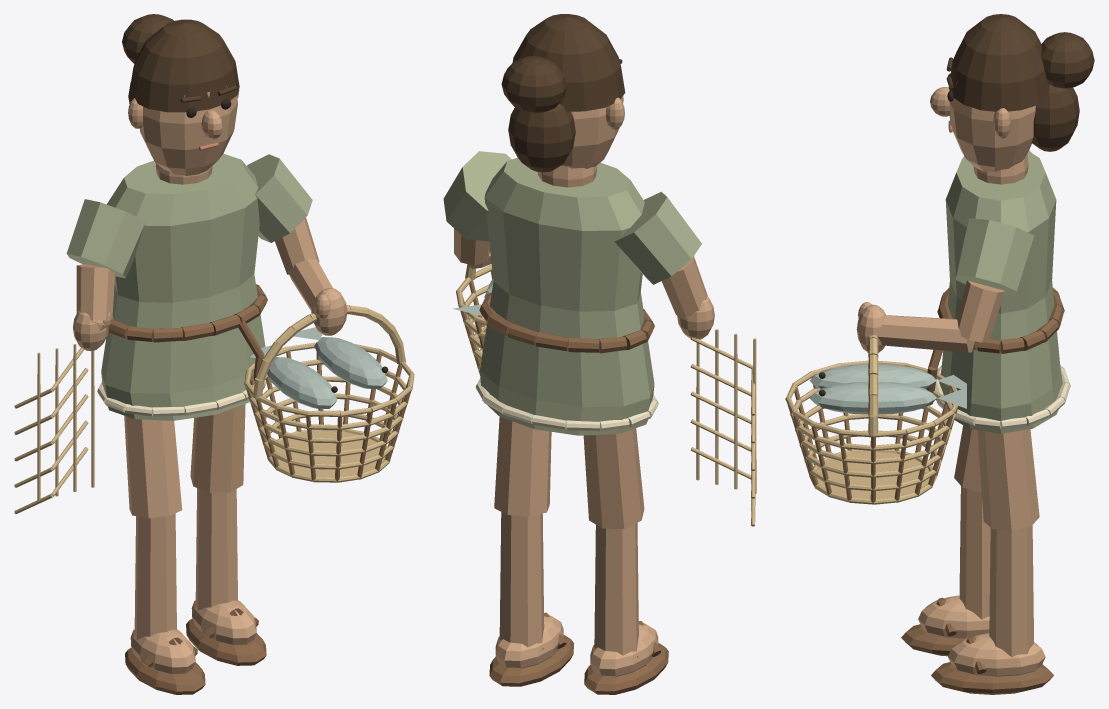
3 renders of one model, left to right at view 1: azimuth 30°, elevation 25°; view 2: azimuth 150°, elevation 25°; view 3: azimuth 270°, elevation 25°, orthographic. The views are drawn at different scales.
Visible parts, largest first — view 1: BA-0086 River fish seller batched; view 2: BA-0086 River fish seller batched; view 3: BA-0086 River fish seller batched.
Boxes of the visible parts, x1,y1,x2,y2 form: BA-0086 River fish seller batched: [14, 14, 414, 694]; BA-0086 River fish seller batched: [443, 14, 756, 694]; BA-0086 River fish seller batched: [785, 14, 1094, 694].
Size of the model in its own units: 0.8796 by 1.61 by 0.6905.
